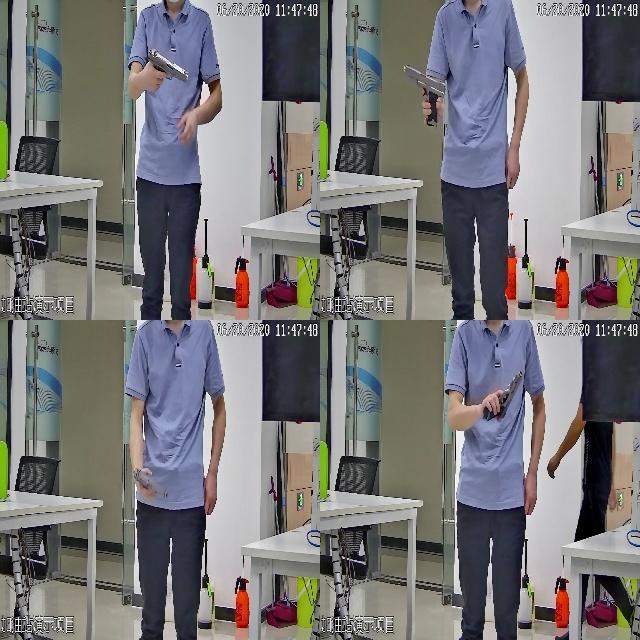gun-knife-thesis - v11 Yolov5 augmented: (399, 59, 444, 127), (479, 367, 521, 424), (146, 45, 188, 95), (130, 463, 168, 507)
